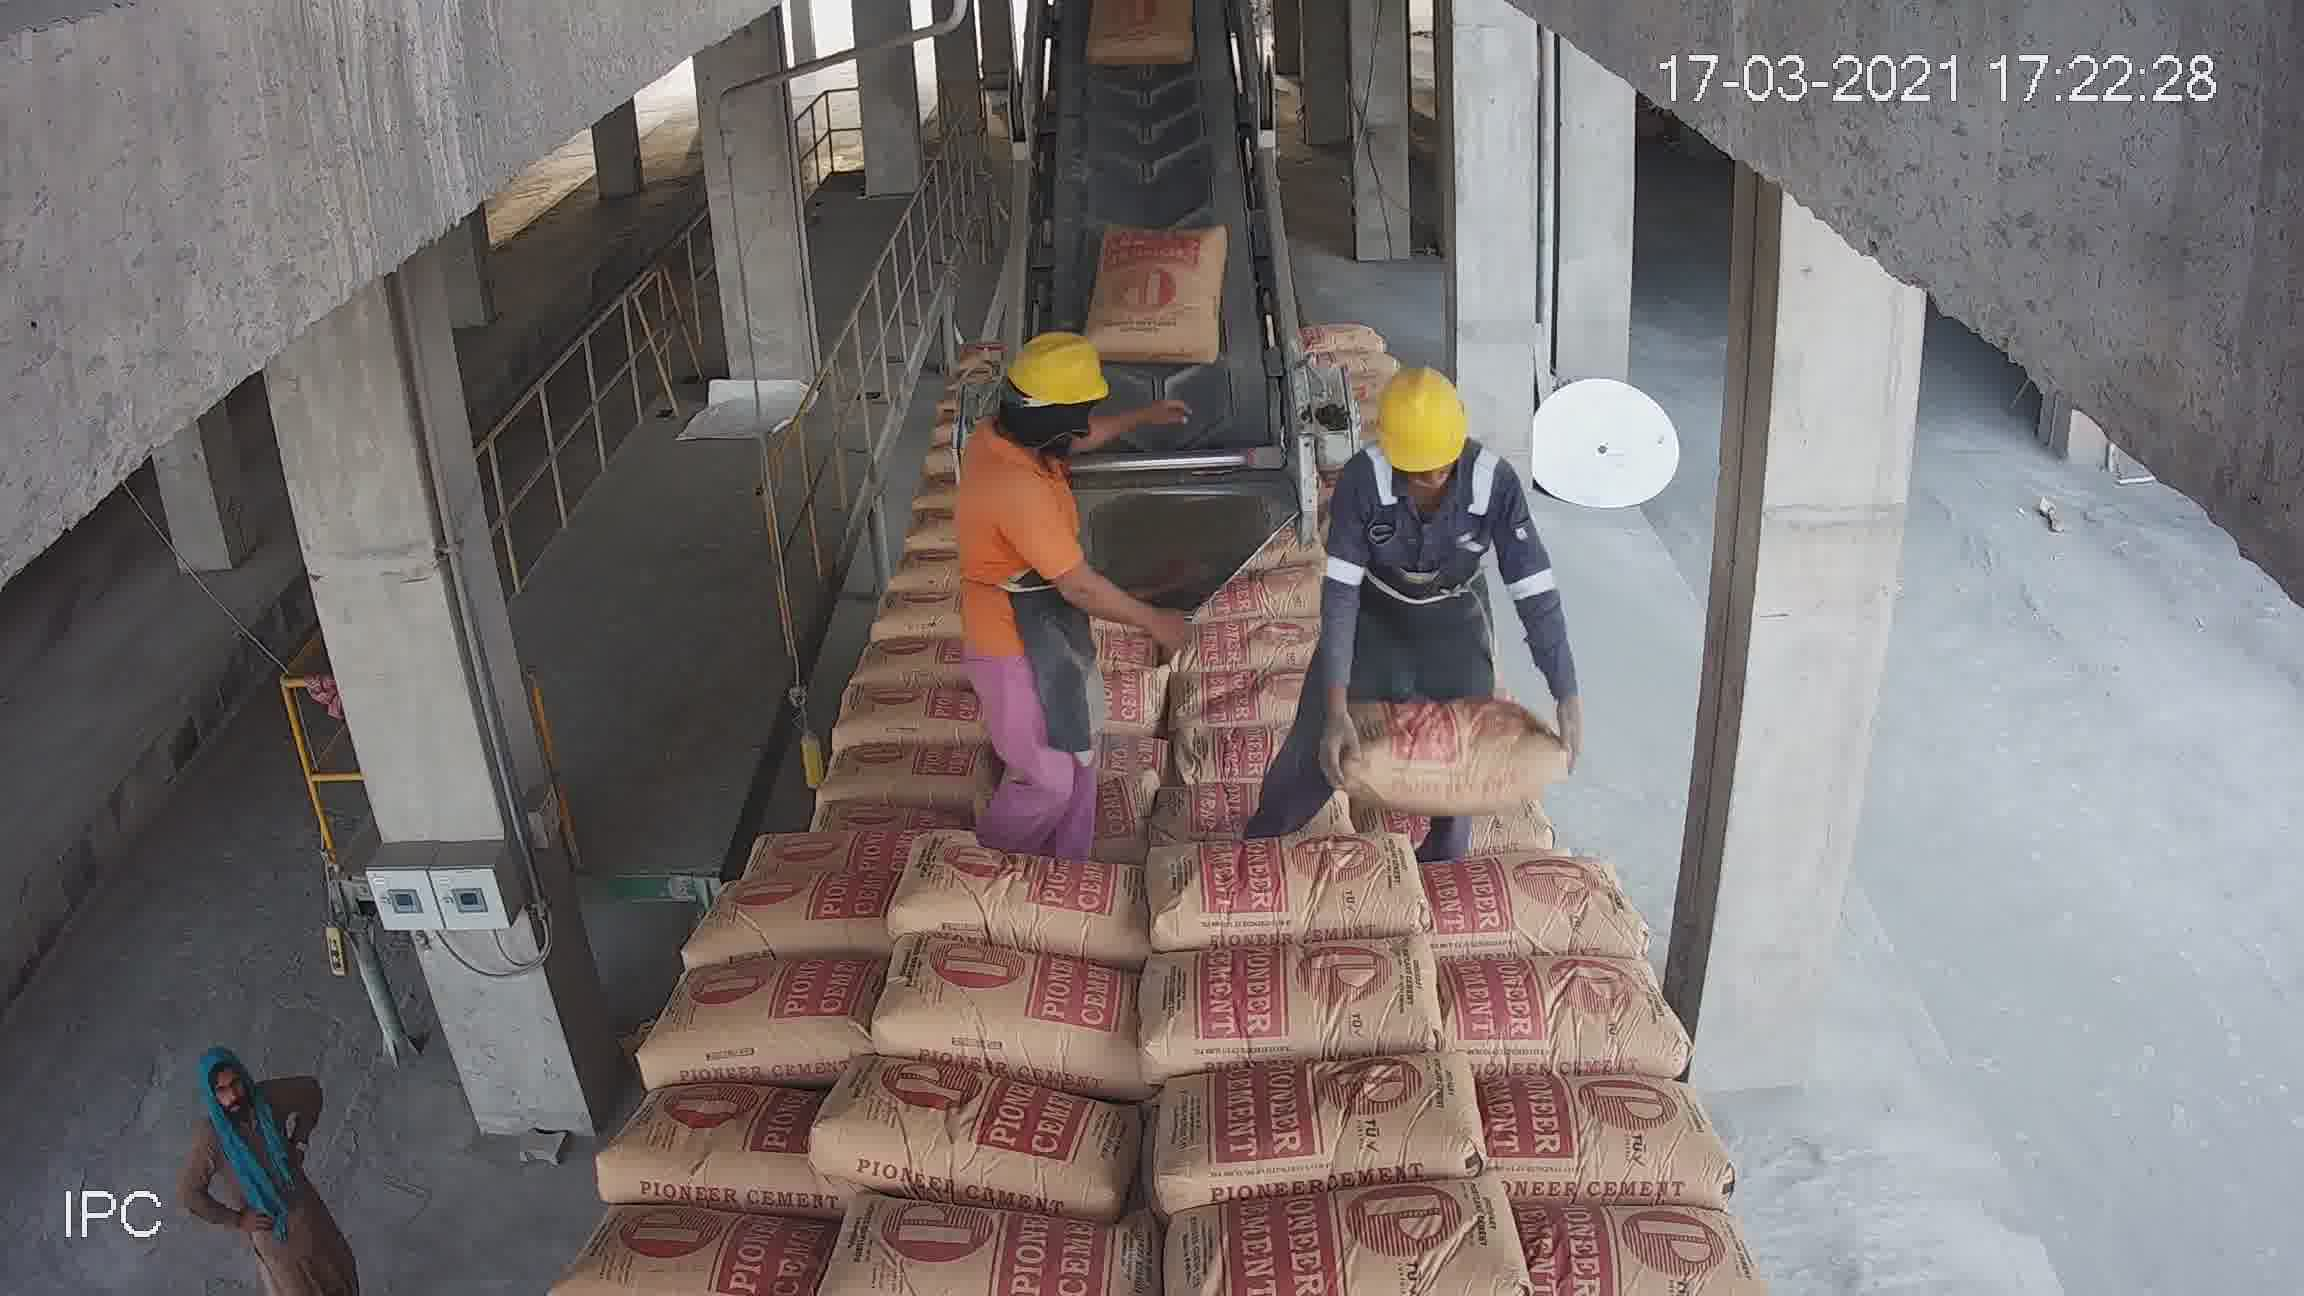bag: (1112, 285, 1234, 443), (1093, 17, 1201, 59)
bag_h: (1154, 1048, 1475, 1203), (1131, 930, 1443, 1082), (1163, 1176, 1514, 1294), (1480, 1059, 1722, 1207), (619, 961, 889, 1092), (1146, 817, 1416, 943), (1438, 938, 1688, 1073), (1124, 715, 1385, 837), (791, 1209, 1166, 1291), (817, 1093, 1144, 1184), (883, 949, 1139, 1059), (1514, 1192, 1755, 1296), (668, 877, 907, 980), (885, 855, 1139, 948), (930, 663, 1127, 777), (587, 1086, 813, 1184), (1383, 665, 1578, 775), (1419, 847, 1620, 949), (562, 1225, 840, 1296), (1139, 665, 1367, 752), (709, 785, 907, 881), (1407, 775, 1608, 856), (1340, 590, 1510, 684), (904, 779, 1138, 837), (758, 709, 923, 786), (861, 584, 1014, 638), (1157, 620, 1271, 677), (1184, 529, 1290, 587), (878, 548, 1010, 593), (1190, 483, 1302, 530), (1179, 574, 1287, 623), (873, 638, 1010, 676), (904, 505, 997, 546), (915, 460, 987, 513)
belt: (1029, 14, 1285, 434)
